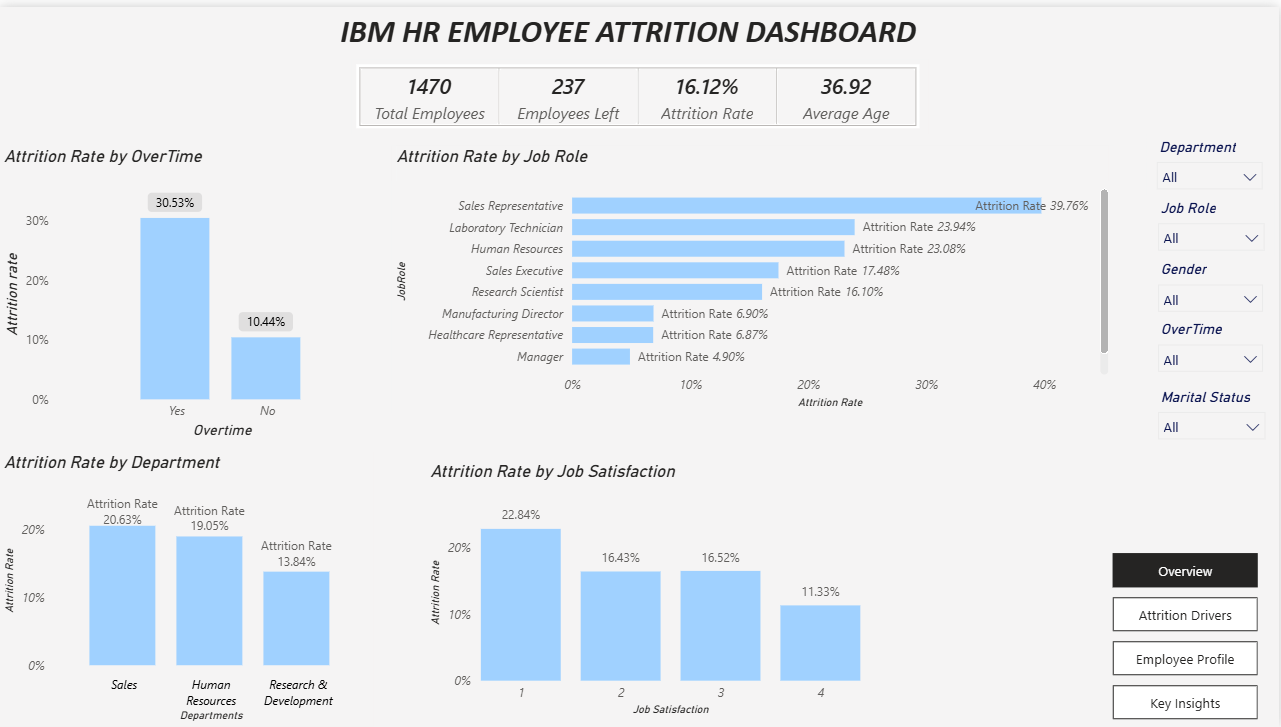

The dashboard page shown, as its layout file describes it:
{"tool":"powerbi","page":{"name":"Overview","canvas":[1280,720],"ordinal":0},"visuals":[{"type":"clusteredColumnChart","fields":{"Category":["HR Analytics.Department"],"Y":["HR Analytics.Attrition Rate"]},"box":[0,445.5,374,274],"z":4000},{"type":"clusteredColumnChart","fields":{"Category":["HR Analytics.OverTime"],"Y":["HR Analytics.Attrition Rate"]},"box":[0,139,392.2,297.4],"z":4001},{"type":"clusteredBarChart","title":"Attrition Rate by Job Role","fields":{"Category":["HR Analytics.JobRole"],"Y":["HR Analytics.Attrition Rate"]},"box":[392.2,139,722.1,267.5],"z":4002},{"type":"clusteredColumnChart","title":"Attrition Rate by Job Satisfaction","fields":{"Category":["HR Analytics.JobSatisfaction"],"Y":["HR Analytics.Attrition Rate"]},"box":[426,453.2,440.3,259.7],"z":4003},{"type":"textbox","box":[296.2,0,687.5,63.8],"z":4009},{"type":"pageNavigator","box":[1114.3,546.8,145.5,166.2],"z":4016},{"type":"cardVisual","fields":{"Data":["HR Analytics.Total Employees","HR Analytics.Employees Left","HR Analytics.Attrition Rate","HR Analytics.Average Age"]},"box":[351.9,51.9,576.6,74],"z":4017},{"type":"slicer","fields":{"Values":["HR Analytics.Department"]},"box":[1148.1,126,126.2,61.5],"z":4018},{"type":"slicer","fields":{"Values":["HR Analytics.JobRole"]},"box":[1148.7,187.6,126.7,61.7],"z":4019},{"type":"slicer","fields":{"Values":["HR Analytics.Gender"]},"box":[1149,248.9,125.4,60],"z":4020},{"type":"slicer","fields":{"Values":["HR Analytics.OverTime"]},"box":[1149,308.9,125.4,60],"z":4021},{"type":"slicer","fields":{"Values":["HR Analytics.MaritalStatus"]},"box":[1148.2,375.8,127.7,60.8],"z":4022}]}

Visuals, with their boxes in screenshot pixels (x1, y1, x2, y2), scaled from the page's 1280x720 canvas onto the 1281x727 screenshot:
clusteredColumnChart - HR Analytics.Department x HR Analytics.Attrition Rate: (0, 450, 374, 726)
clusteredColumnChart - HR Analytics.OverTime x HR Analytics.Attrition Rate: (0, 140, 393, 441)
"Attrition Rate by Job Role" clusteredBarChart: (393, 140, 1115, 410)
"Attrition Rate by Job Satisfaction" clusteredColumnChart: (426, 458, 867, 720)
textbox: (296, 0, 984, 64)
pageNavigator: (1115, 552, 1261, 720)
cardVisual - HR Analytics.Total Employees x HR Analytics.Employees Left: (352, 52, 929, 127)
slicer - HR Analytics.Department: (1149, 127, 1275, 189)
slicer - HR Analytics.JobRole: (1150, 189, 1276, 252)
slicer - HR Analytics.Gender: (1150, 251, 1275, 312)
slicer - HR Analytics.OverTime: (1150, 312, 1275, 372)
slicer - HR Analytics.MaritalStatus: (1149, 379, 1277, 441)
